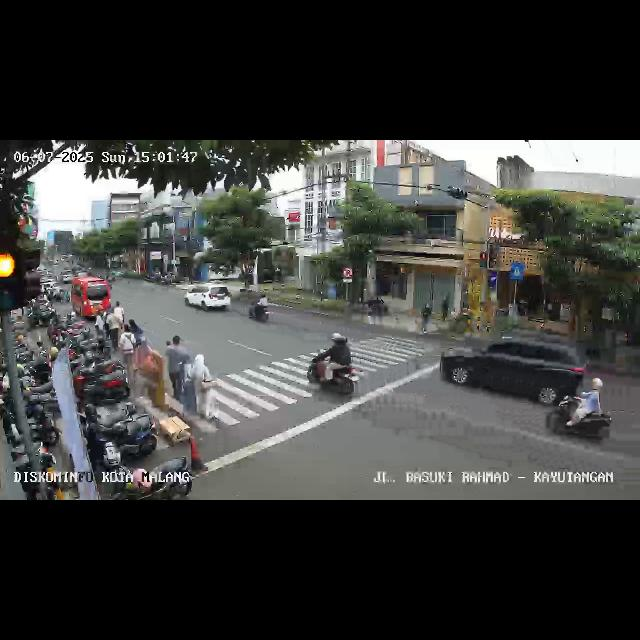car: (442, 332, 586, 408), (70, 277, 111, 319), (183, 282, 231, 314)
motorcycle: (546, 373, 612, 443), (308, 332, 362, 398), (249, 294, 275, 326)
person: (188, 354, 216, 418), (166, 334, 187, 394), (119, 323, 135, 385), (136, 337, 152, 383), (106, 308, 120, 344), (420, 304, 432, 334), (129, 318, 143, 338), (113, 301, 125, 323), (95, 309, 105, 333)
